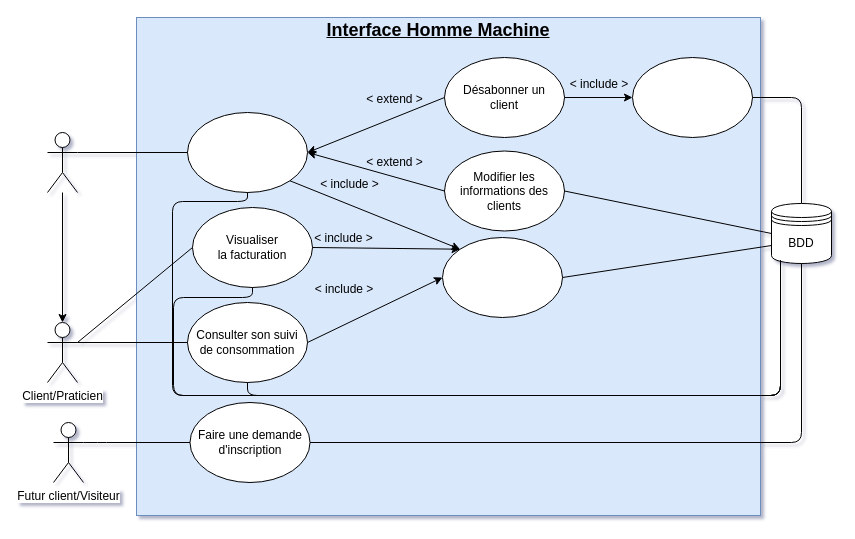
Image size: 855x539. Some labels were removed from this diagram. The shapes that lost their labels are listed below. From the top down, each one's box as (x1, y1, x2, y2) in pixels, then its label:
(632, 56, 752, 138): Libérer une machine
(46, 132, 78, 192): Administrateur
(186, 112, 308, 192): Consulter le suivi de consommation de tous les clients
(442, 236, 562, 318): S'authentifier
